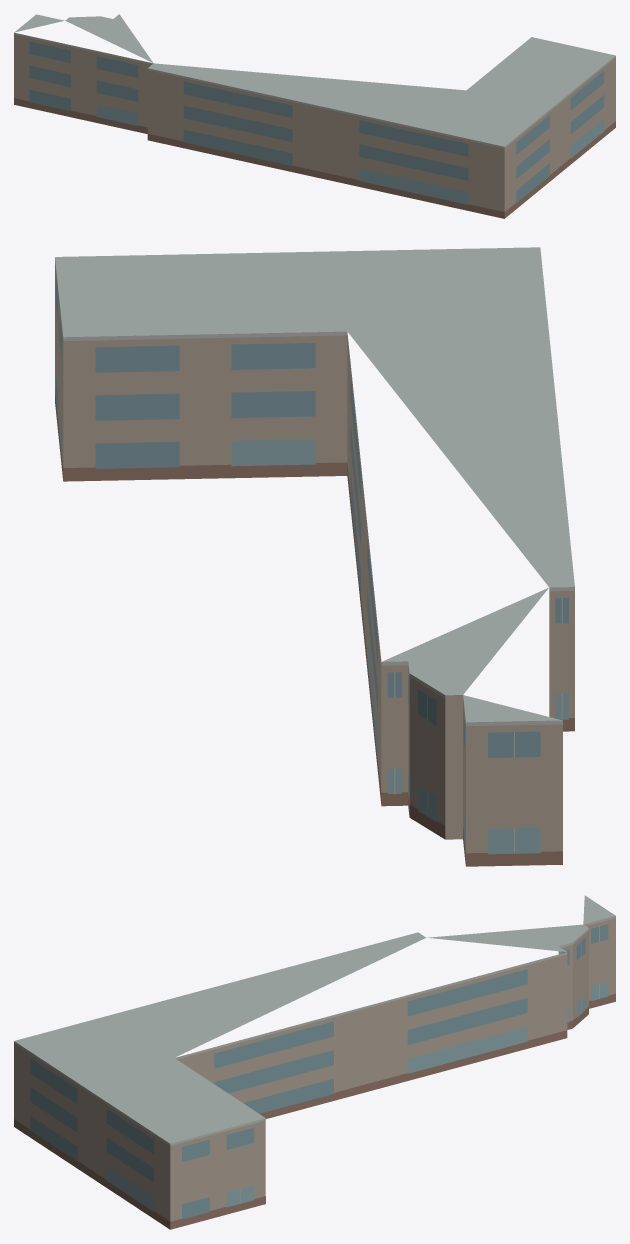
The model's file is survey-upis-32912516.glb.
The picture shows the model from 3 angles, top to bottom: view 1: azimuth 30°, elevation 25°; view 2: azimuth 150°, elevation 25°; view 3: azimuth 270°, elevation 25°; orthographic projection. The views are drawn at different scales.
Parts seen in each view (by area): view 1: survey-upis-32912516.tmp; view 2: survey-upis-32912516.tmp; view 3: survey-upis-32912516.tmp.
Boxes of the visible parts, bbox=[...] form: survey-upis-32912516.tmp: bbox=[14, 14, 615, 218]; survey-upis-32912516.tmp: bbox=[55, 247, 574, 866]; survey-upis-32912516.tmp: bbox=[14, 895, 615, 1229].
Bounding box in the file's own units: 56.81 × 9.15 × 58.1.
